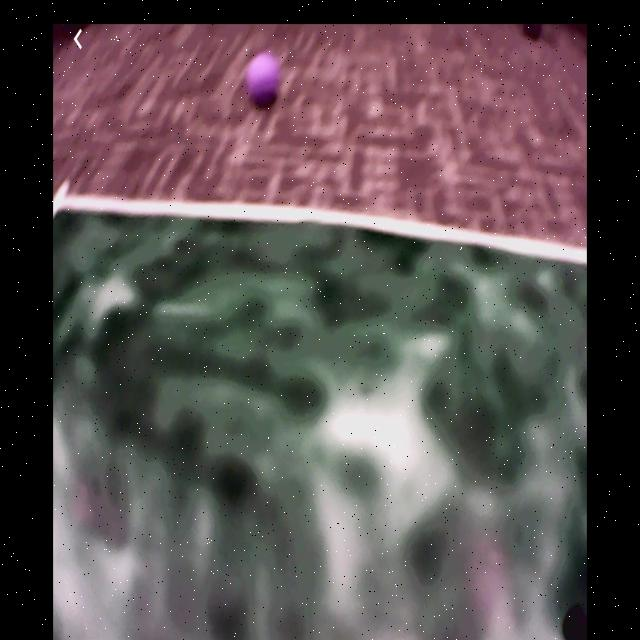ball: (245, 53, 279, 106)
